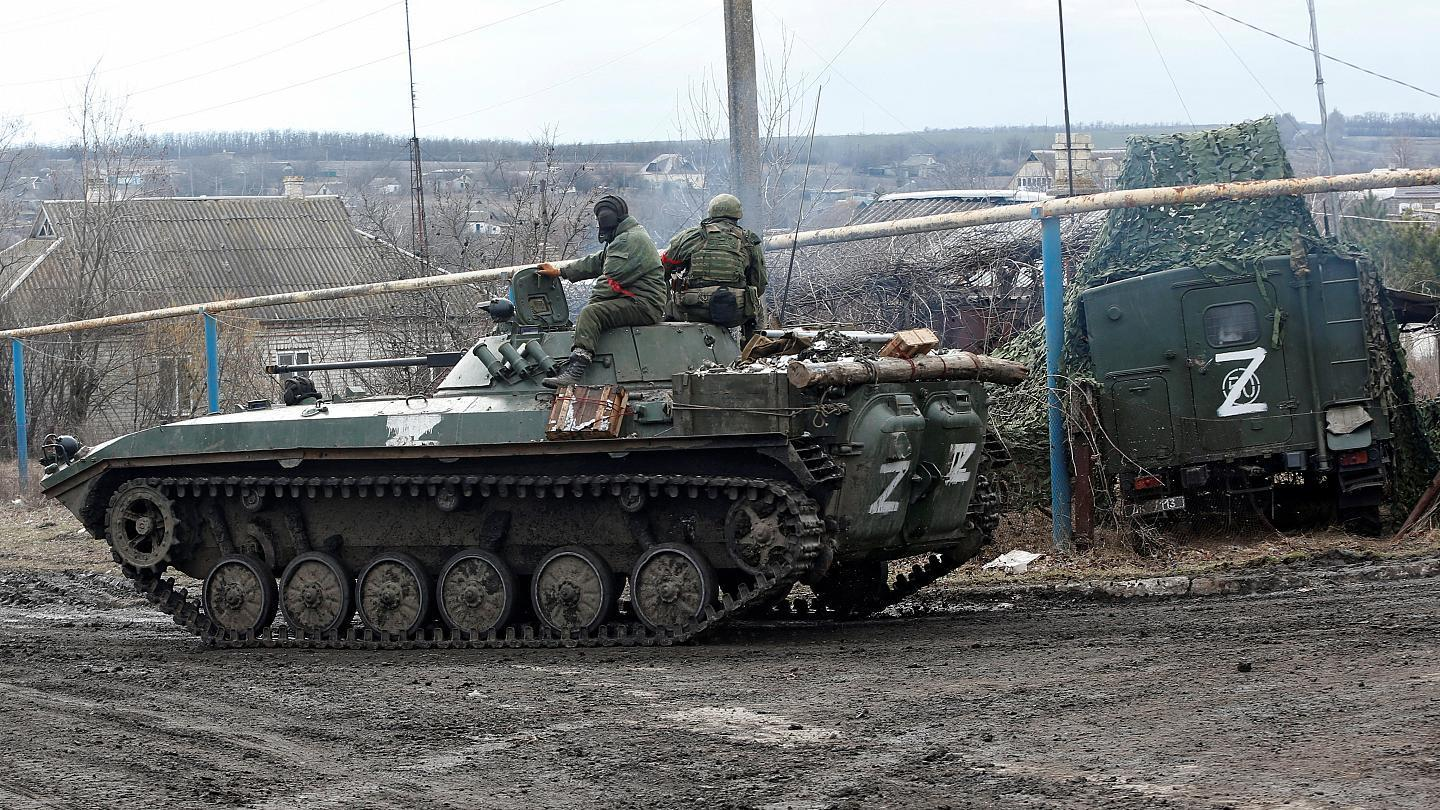tank: (44, 282, 1003, 654)
truck: (1079, 240, 1400, 552)
